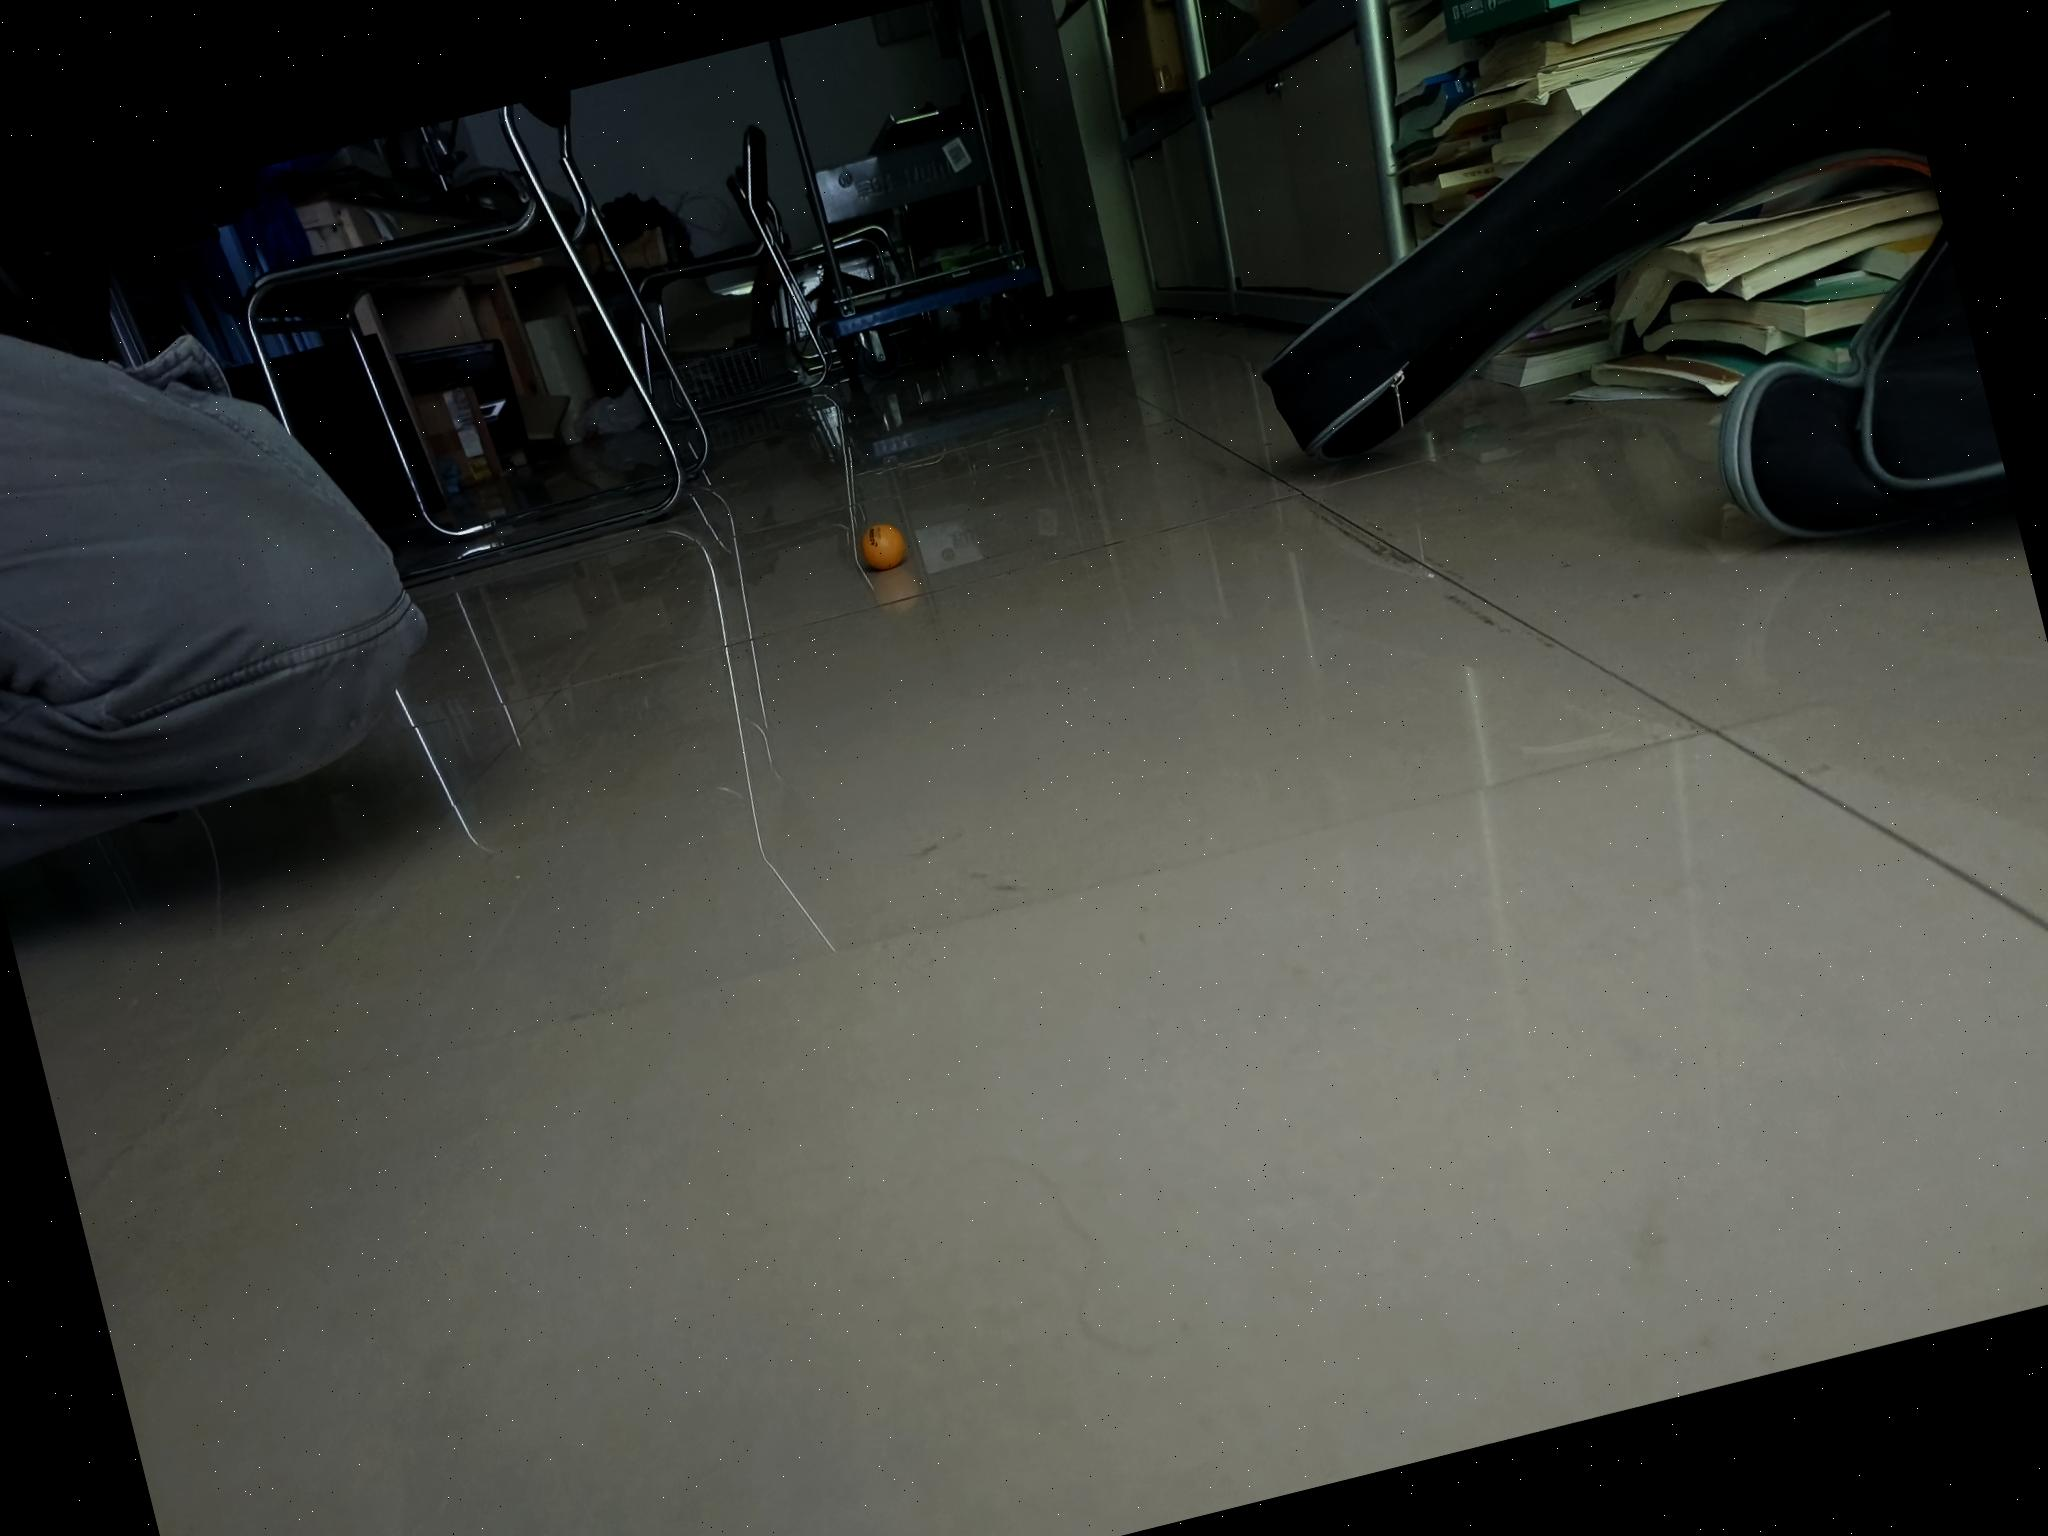ball: (858, 519, 910, 573)
